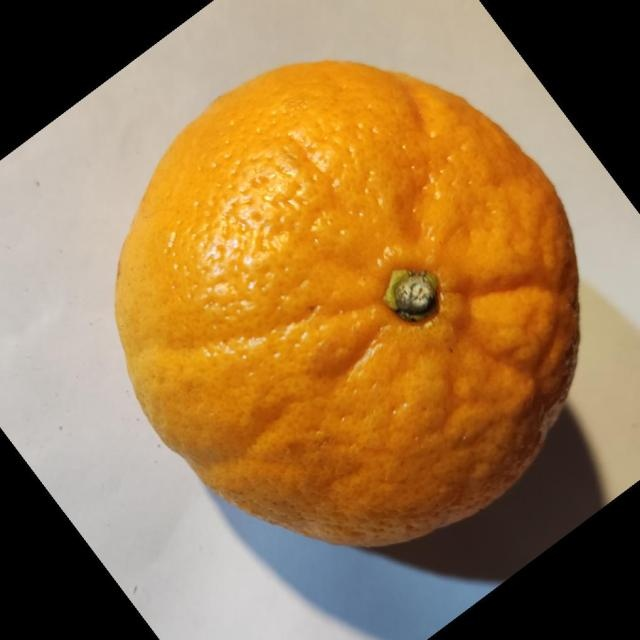agrume: (113, 59, 582, 549)
